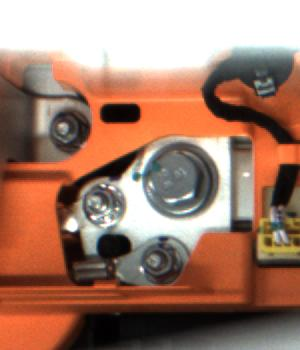nut_b: (137, 137, 223, 225)
